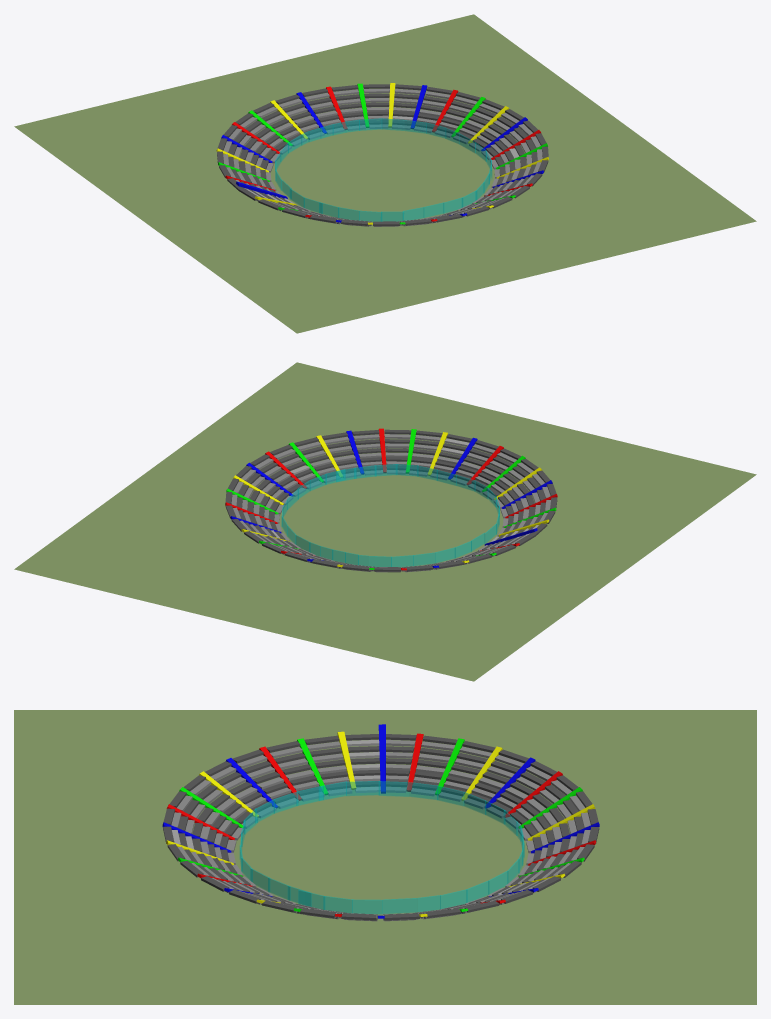
File: Stadium.fbx
The picture shows the model from 3 angles, top to bottom: view 1: azimuth 30°, elevation 25°; view 2: azimuth 150°, elevation 25°; view 3: azimuth 270°, elevation 25°; orthographic projection. The views are drawn at different scales.
Parts seen in each view (by area): view 1: pasted__pasted__pasted__pasted__pasted__pasted__pasted__past; view 2: pasted__pasted__pasted__pasted__pasted__pasted__pasted__past; view 3: pasted__pasted__pasted__pasted__pasted__pasted__pasted__past.
Part boxes in pixels (bbox=[...]): pasted__pasted__pasted__pasted__pasted__pasted__pasted__past: bbox=[14, 14, 756, 333]; pasted__pasted__pasted__pasted__pasted__pasted__pasted__past: bbox=[14, 362, 756, 681]; pasted__pasted__pasted__pasted__pasted__pasted__pasted__past: bbox=[14, 710, 756, 1004].
Size of the model in its own units: 275 by 20.6 by 293.
